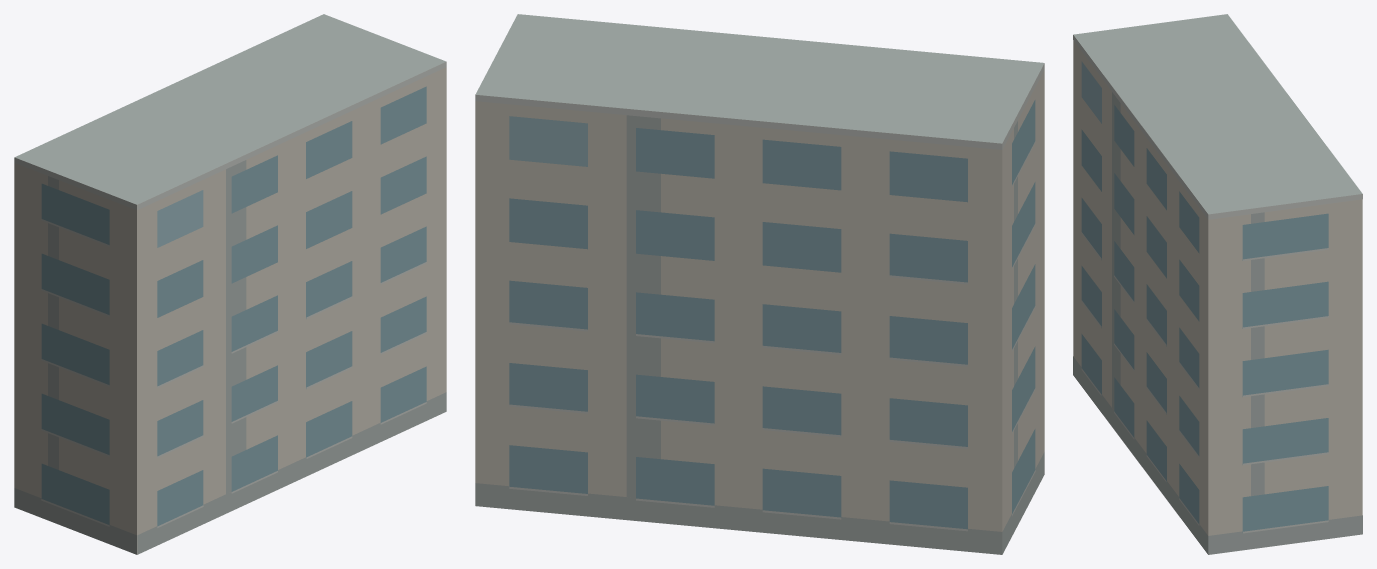
Rendered from survey-upis-32915889.glb.
3 views of the same model, side by side, from view 1: azimuth 30°, elevation 25°; view 2: azimuth 150°, elevation 25°; view 3: azimuth 270°, elevation 25° (orthographic). The views are drawn at different scales.
Visible parts, largest first — view 1: survey-upis-32915889.tmp; view 2: survey-upis-32915889.tmp; view 3: survey-upis-32915889.tmp.
Part boxes in pixels (x1,y1,x2,y2): survey-upis-32915889.tmp: (14, 14, 446, 554); survey-upis-32915889.tmp: (475, 14, 1044, 554); survey-upis-32915889.tmp: (1073, 14, 1362, 554).
Size of the model in its own units: 19.58 by 15.5 by 11.96.
